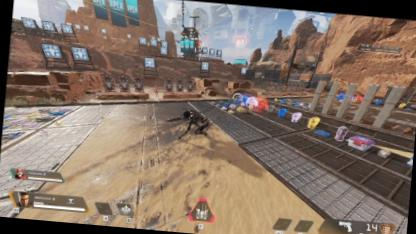Target: (180, 107, 212, 137), (152, 84, 160, 98)
